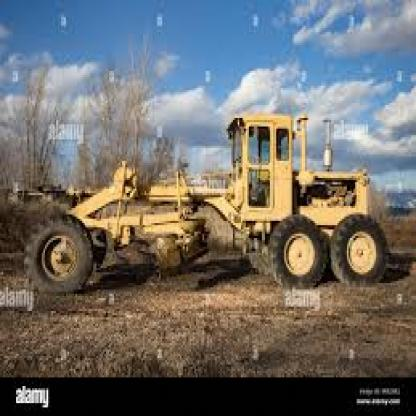bull_dozer/loader/grader: (19, 107, 389, 315)
